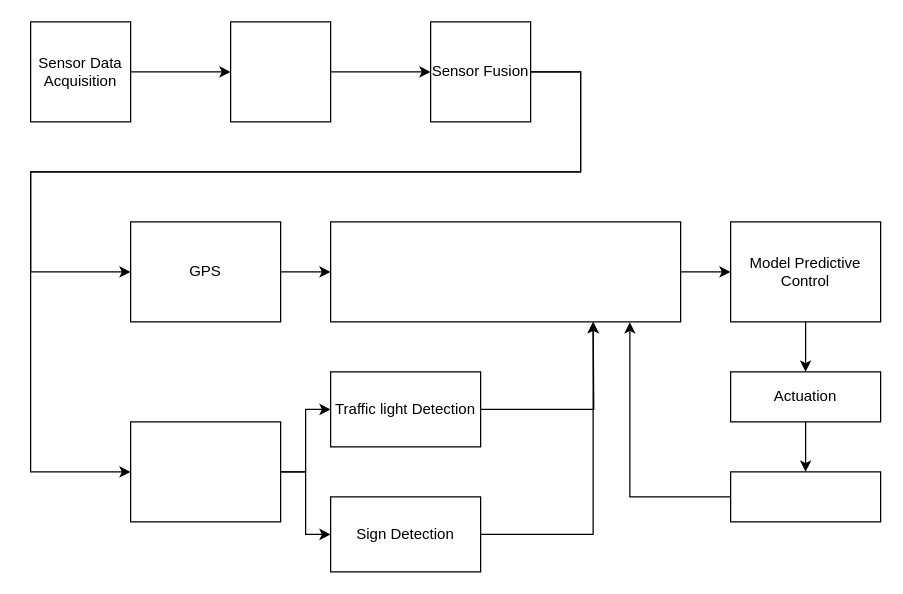
Image size: 903x594. Some labels were removed from this diagram. Each missing label, with the box of its shape:
Computer Vision: (129, 421, 281, 522)
Data Preprocessing: (229, 21, 331, 122)
Outcomes: (729, 471, 881, 522)
PathPlanning: (329, 221, 681, 322)
